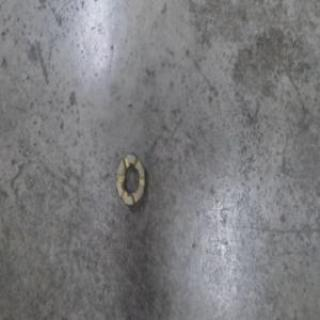Nuttrack_idkeyframe: (113, 150, 146, 208)
